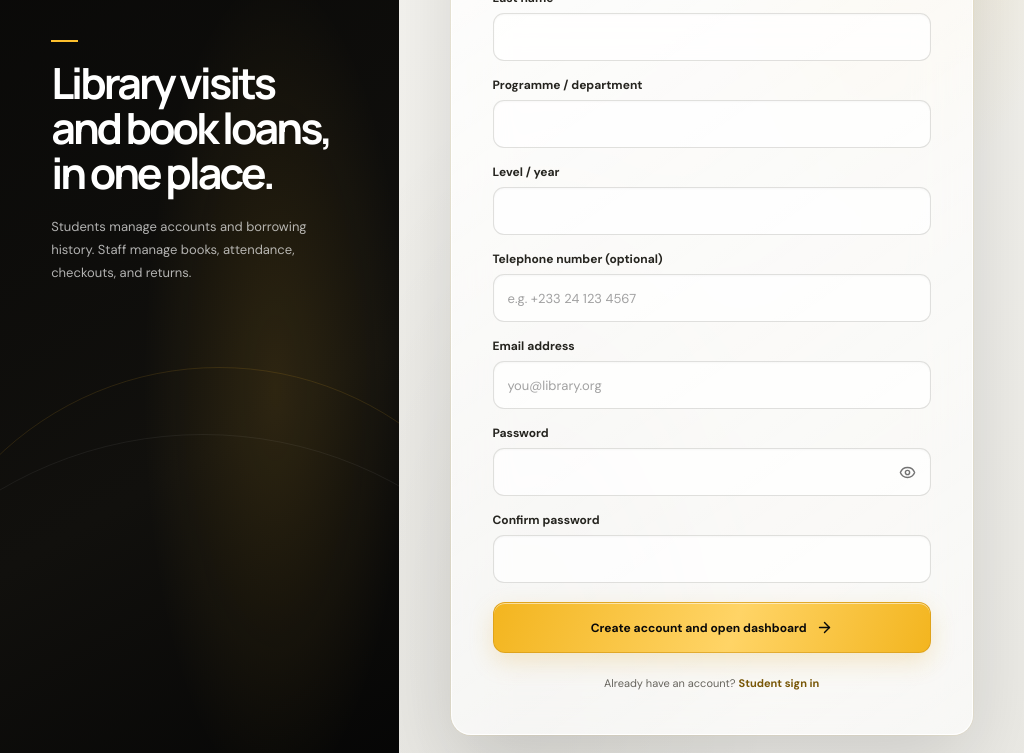
Test: LibTrack account screens › rejects malformed email, missing student index number and short passwords inline
This screenshot has width=1024, height=753.
(page scrolled)
Type "not-an-email" into the field labelled "Email address" at coordinates (712, 385), box 492,361 -> 931,409
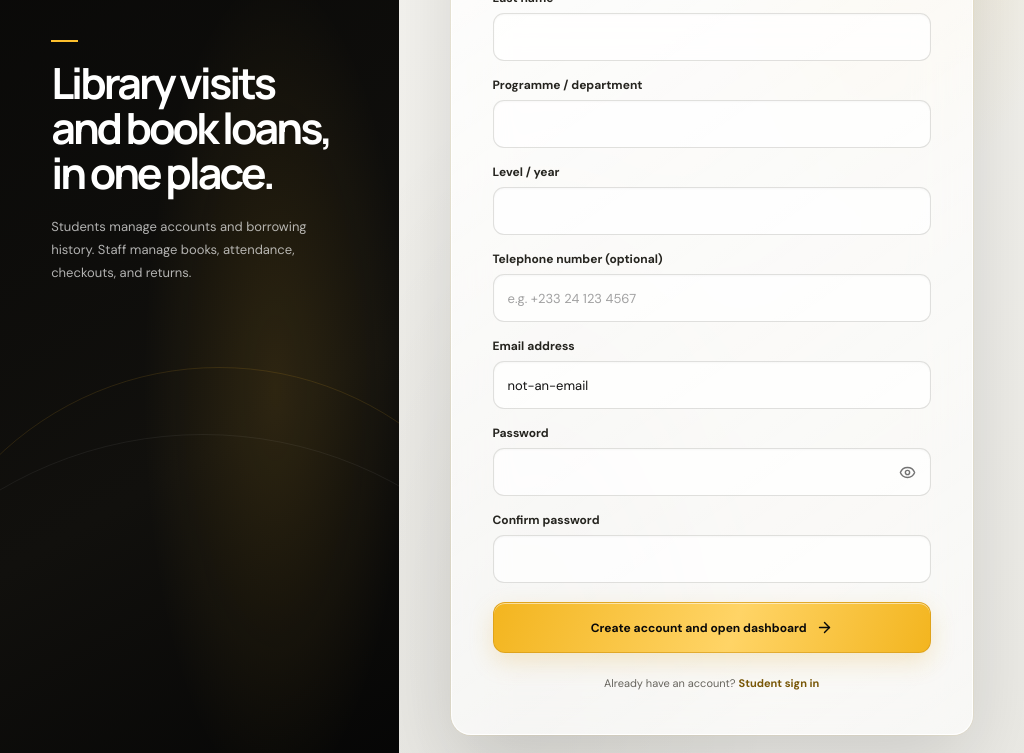
Type "short" into the password field labelled "Password" at coordinates (712, 472), box 492,448 -> 931,496
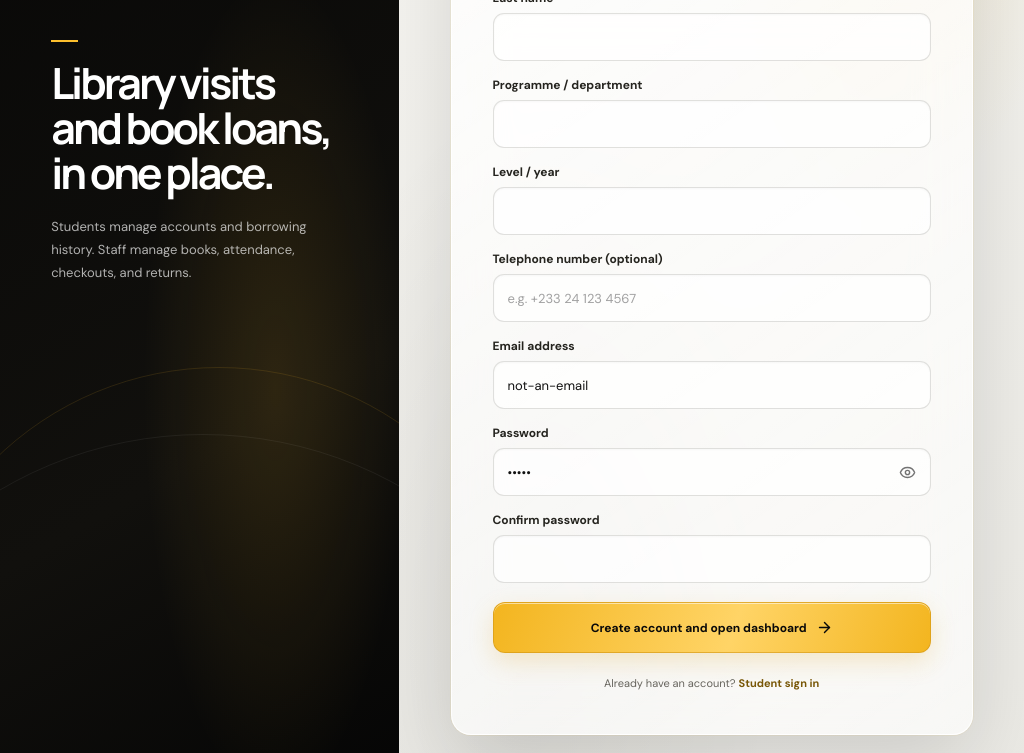
Type "short" into the password field labelled "Confirm password" at coordinates (712, 559), box 492,535 -> 931,583
(page scrolled)
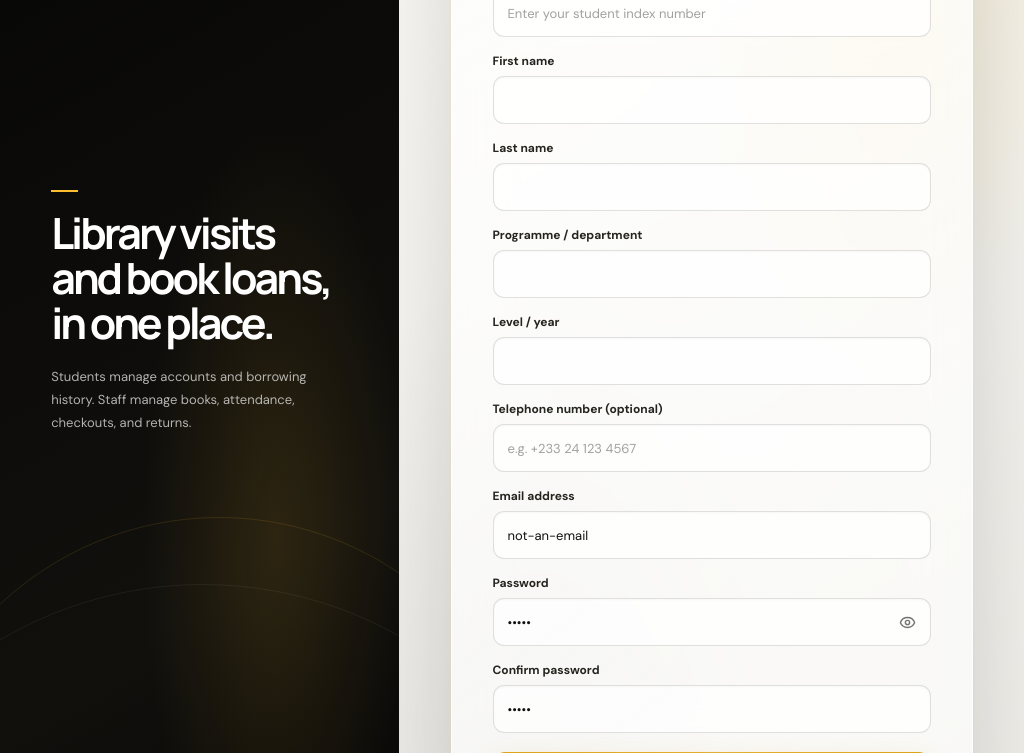
Submit the form named "Create your account"
(page scrolled)
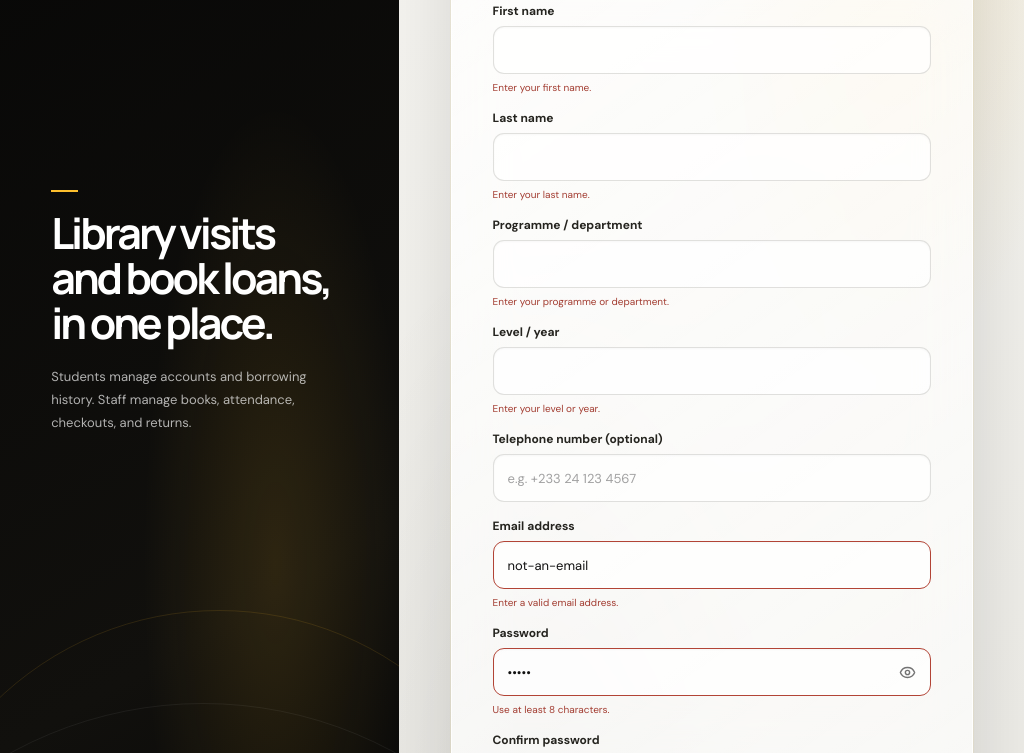
Result: the text "Enter a valid email address." is shown at 492,596 -> 618,609
Result: the text "Use at least 8 characters." is shown at 492,703 -> 610,716
